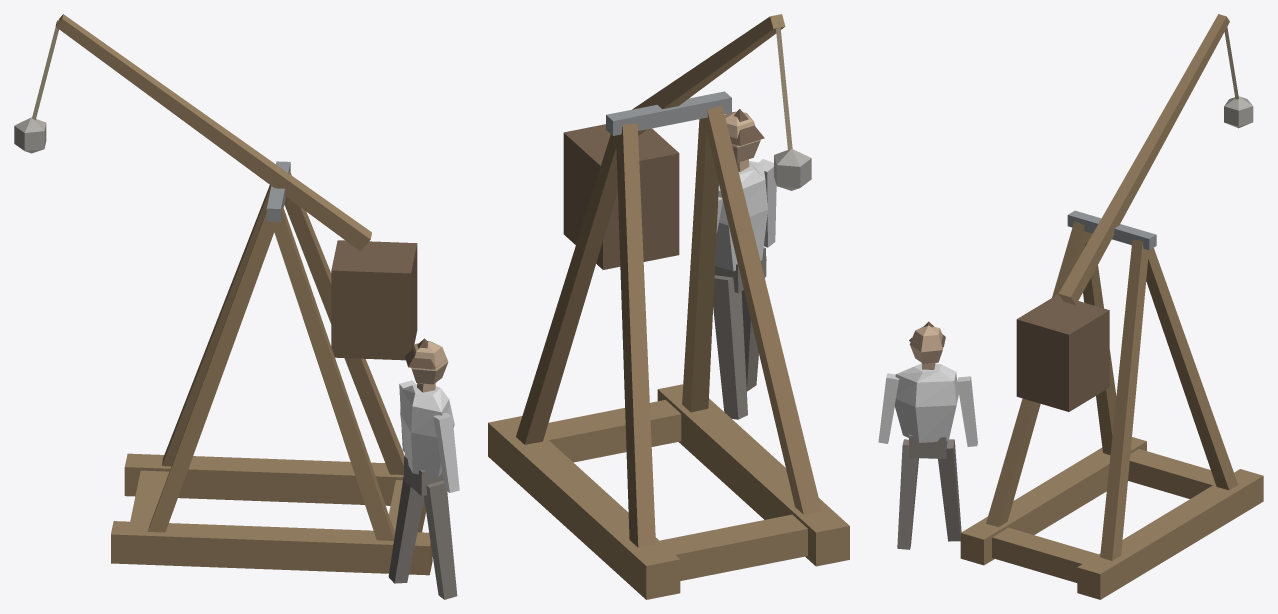
Rendered from trebuchet.glb.
3 renders of one model, left to right at view 1: azimuth 30°, elevation 25°; view 2: azimuth 150°, elevation 25°; view 3: azimuth 270°, elevation 25°, orthographic. The views are drawn at different scales.
Visible parts, largest first — view 1: LOD0; view 2: LOD0; view 3: LOD0.
Boxes of the visible parts, box(x1,y1,x2,y2) form: LOD0: box(14, 14, 459, 599); LOD0: box(488, 14, 849, 599); LOD0: box(878, 14, 1263, 599).
Size of what is drawn, in the model's own units: 1.01 by 1.39 by 1.08.
